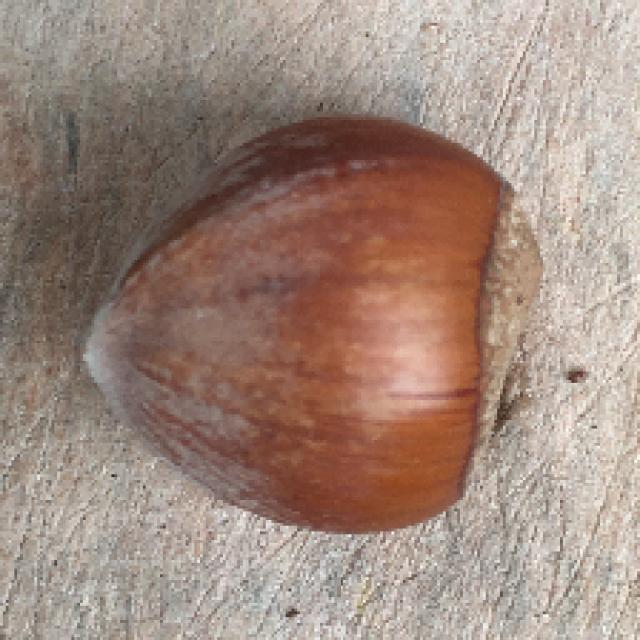qualityHazelnut: (86, 108, 546, 536)
